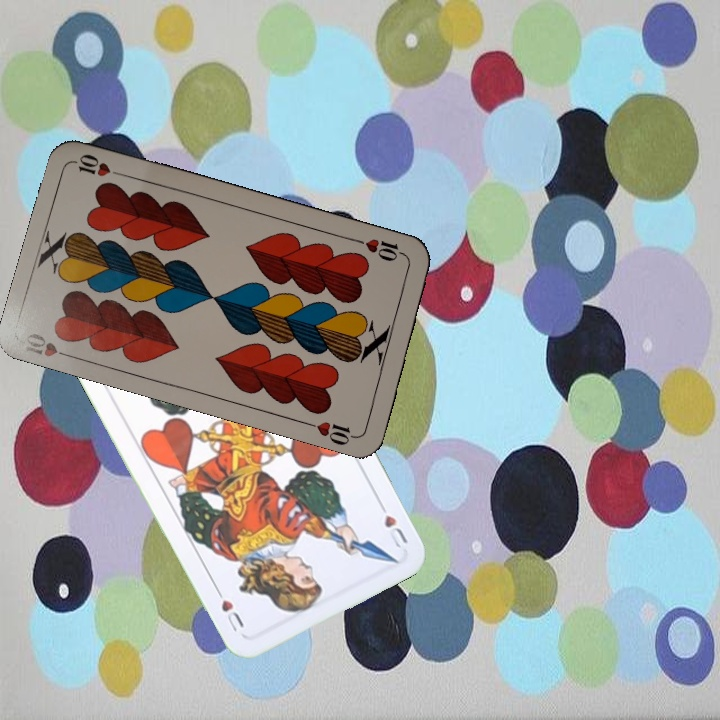H10: (19, 328, 78, 364), (352, 234, 409, 264)
HU: (374, 496, 410, 551)
